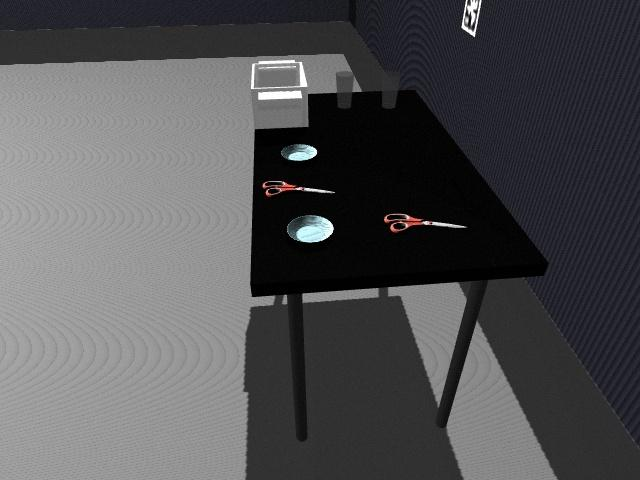cup: (336, 70, 354, 110), (381, 82, 397, 110)
plate: (286, 214, 335, 244), (281, 144, 319, 162)
scissors: (385, 212, 465, 233), (263, 180, 332, 197)
